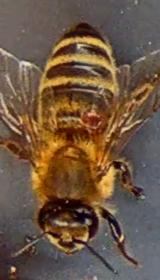varroa_mite: (72, 101, 115, 135)
